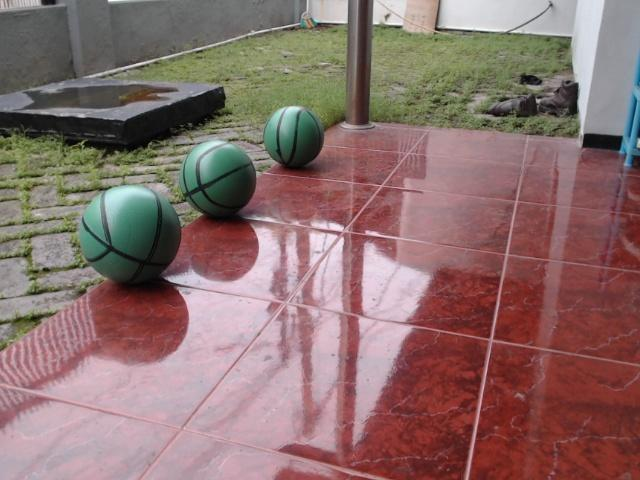Sports-Ball: (75, 181, 183, 289), (178, 135, 259, 216), (262, 101, 323, 174)
